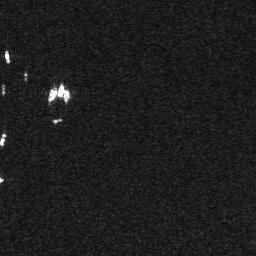ship: (47, 86, 57, 102), (56, 81, 64, 100), (62, 86, 70, 102), (3, 50, 11, 65)
